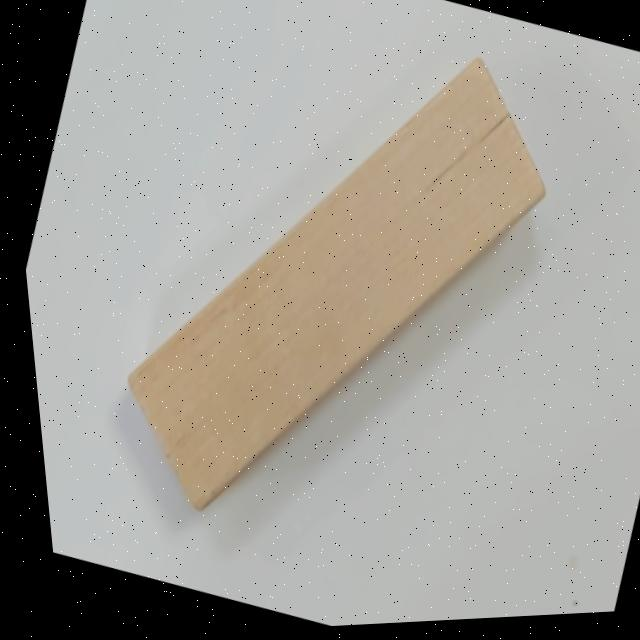Jenga: (56, 0, 607, 602)
